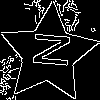N: (23, 29, 71, 69)
